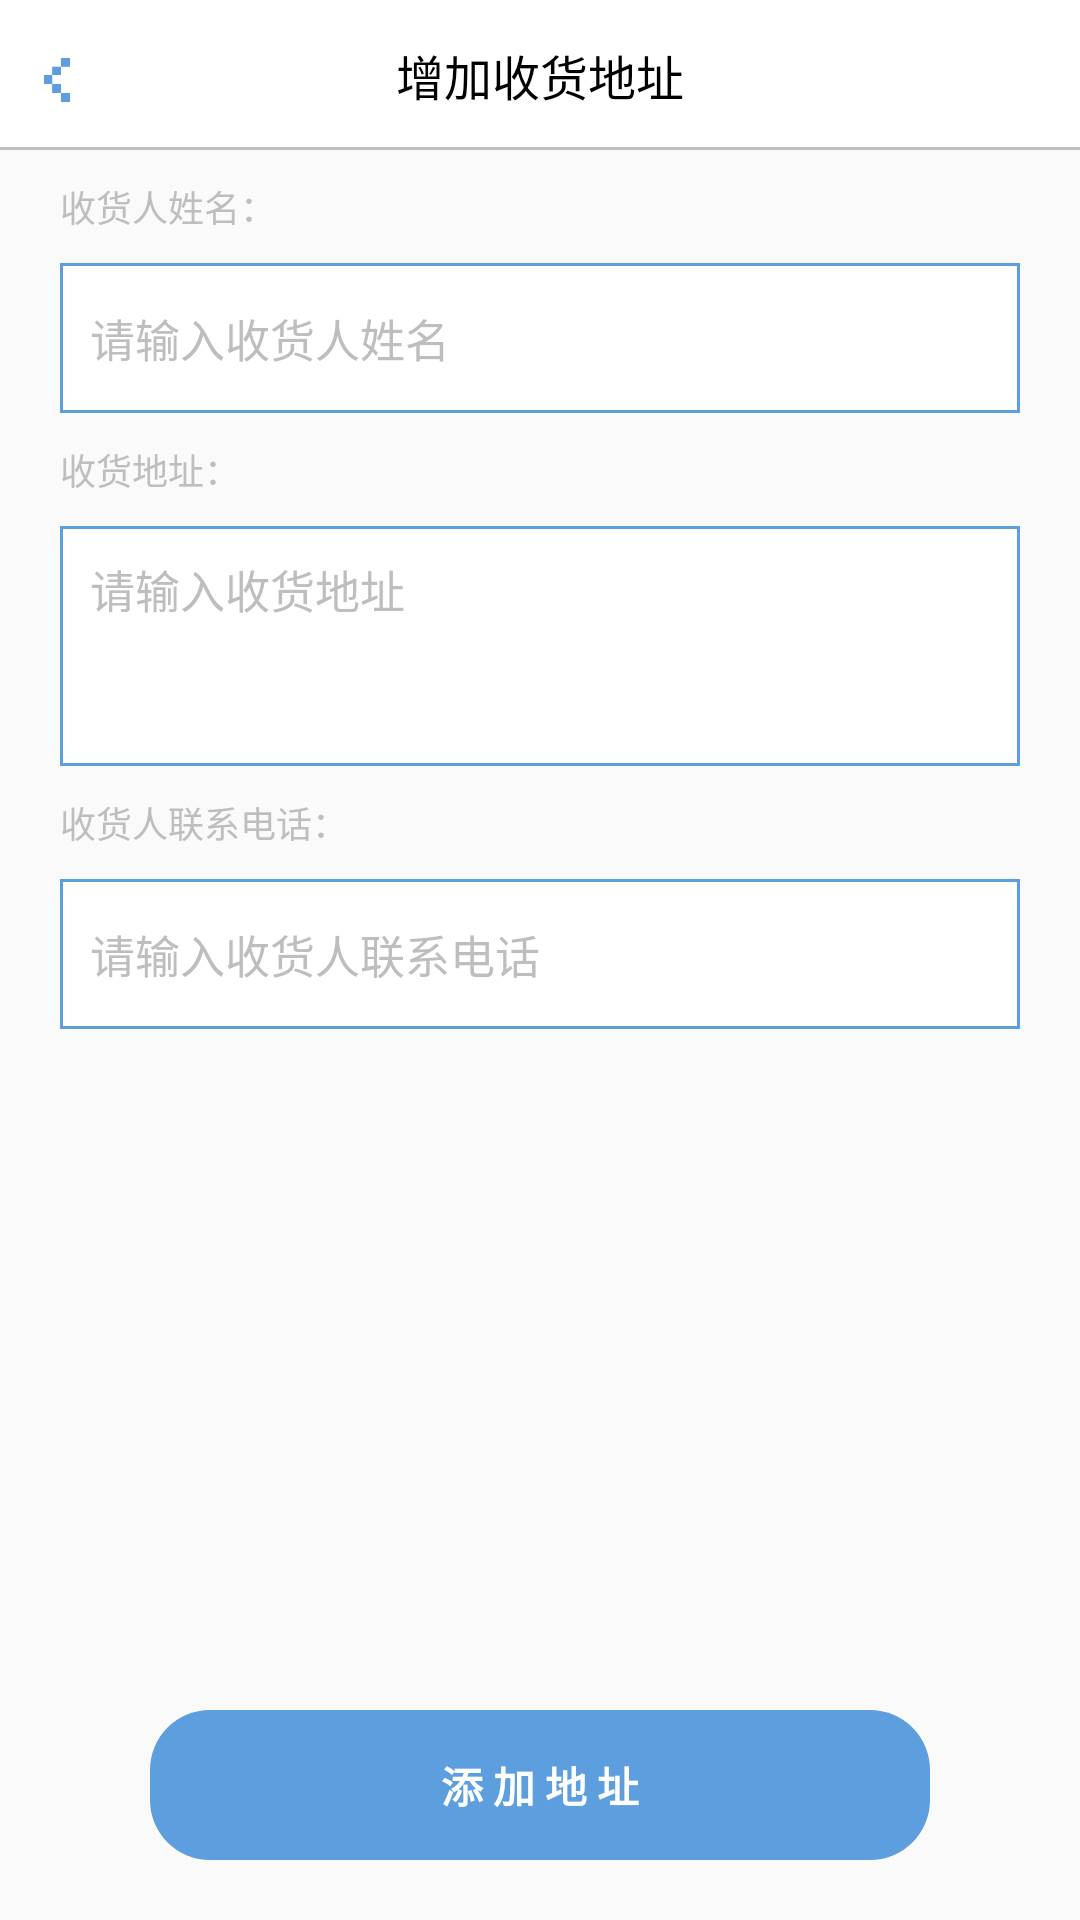

Screen size 1080w x 1920h. Icon name, then its center in pixels as [x,y]:
back: [57,80]
